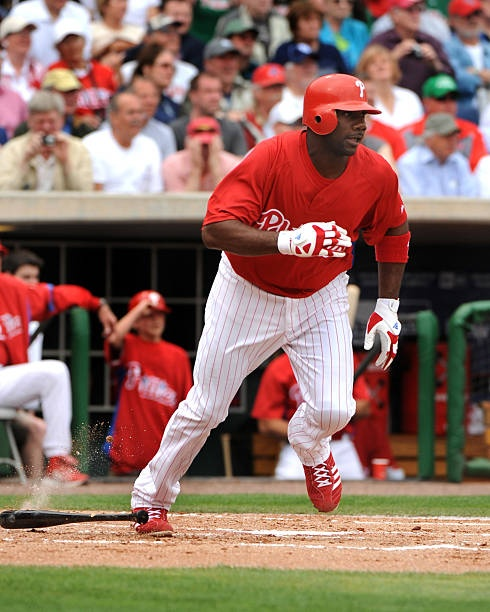bita: (1, 505, 148, 531)
